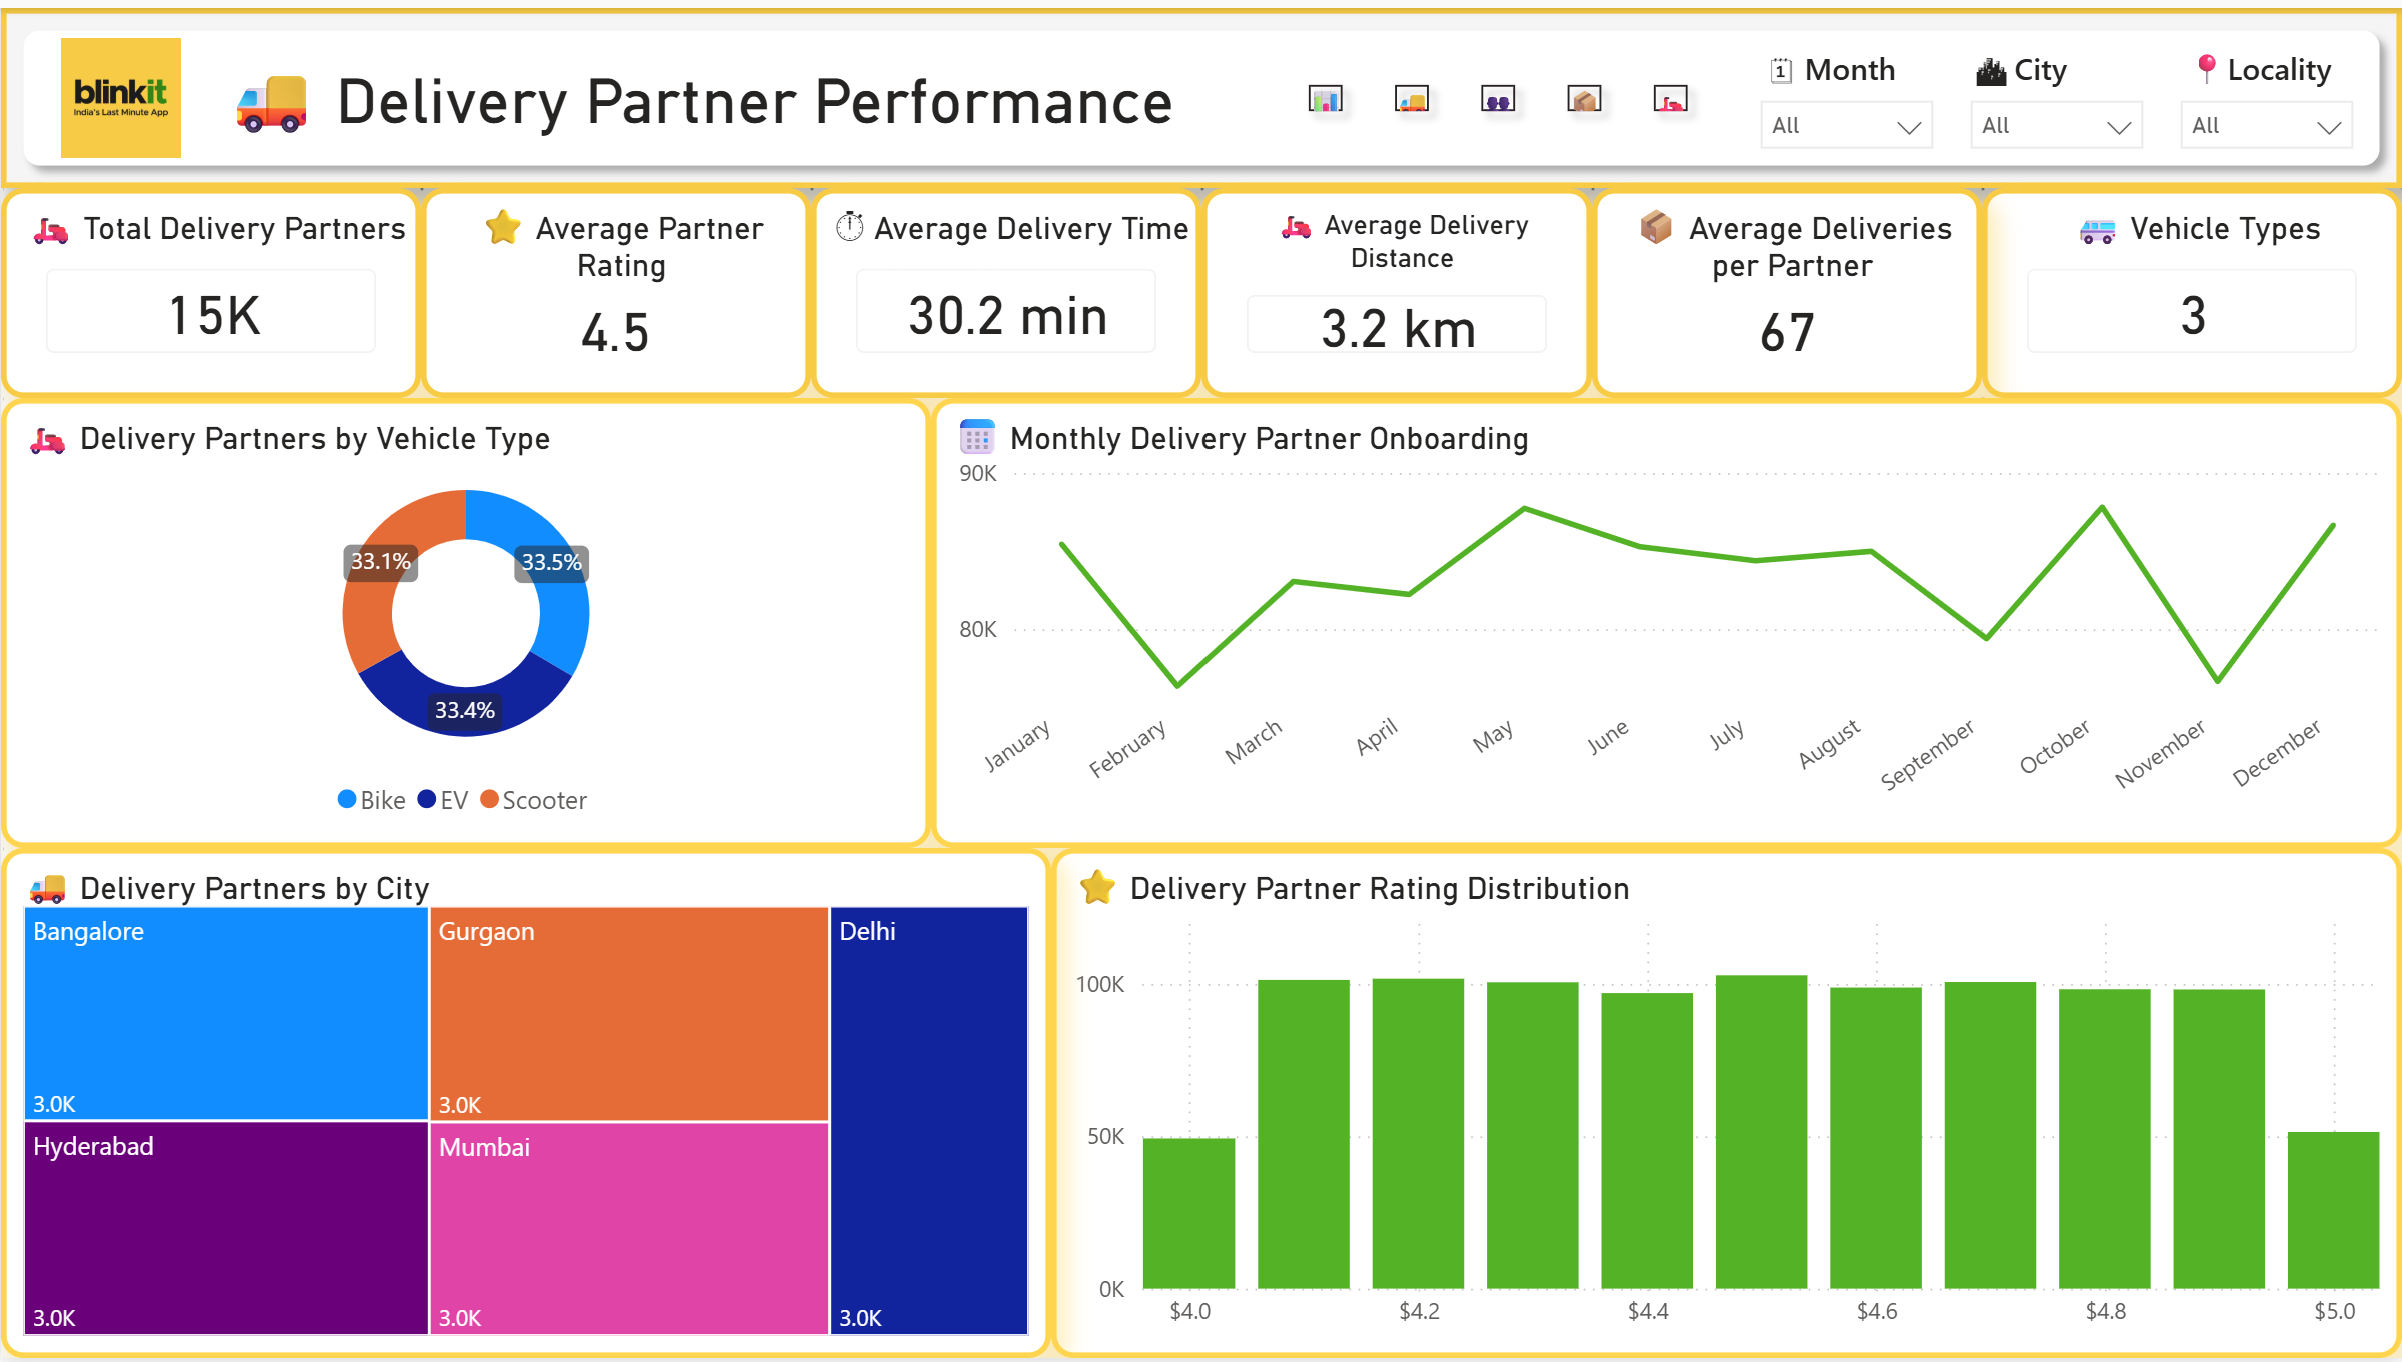

The page's visual inventory and layout, read from the dashboard file:
{"tool":"powerbi","page":{"name":"🛵 Partners","canvas":[1280,720],"ordinal":4},"visuals":[{"type":"shape","box":[0,0,1280,96],"z":0},{"type":"textbox","box":[16,16,704,64],"z":1000},{"type":"slicer","fields":{"Values":["Customers.city"]},"box":[1040,16,112,64],"z":2000},{"type":"slicer","fields":{"Values":["Store.locality"]},"box":[1152,16,112,64],"z":3000},{"type":"slicer","fields":{"Values":["Calender.date.Variation.Date Hierarchy.Month"]},"box":[928,16,112,64],"z":4000},{"type":"image","box":[0,16,128,64],"z":5000},{"type":"cardVisual","title":"🛵 Total Delivery Partners","fields":{"Data":["Key_Metrices.Total Delivery Partners"]},"box":[0,96,224,112],"z":6000},{"type":"card","title":"⭐ Average Partner Rating","fields":{"Values":["Key_Metrices.Average Rider Rating"]},"box":[224,96,208,112],"z":7000},{"type":"cardVisual","title":"⏱ Average Delivery Time","fields":{"Data":["Key_Metrices.Average Delivery Time"]},"box":[432,96,208,112],"z":8000},{"type":"cardVisual","title":"🚐 Vehicle Types","fields":{"Data":["Key_Metrices.Vehicle Types"]},"box":[1056,96,224,112],"z":9000},{"type":"cardVisual","title":"🛵 Average Delivery Distance","fields":{"Data":["Key_Metrices.Average Delivery Distance"]},"box":[640,96,208,112],"z":10000},{"type":"card","title":"📦 Average Deliveries per Partner","fields":{"Values":["Key_Metrices.Average Deliveries per Partner"]},"box":[848,96,208,112],"z":11000},{"type":"donutChart","title":"🛵 Delivery Partners by Vehicle Type","fields":{"Category":["Delivery_Partners.vehicle_type"],"Y":["CountNonNull(Orders.delivery_partner_id)"]},"box":[0,208,496,240],"z":12000},{"type":"lineChart","title":"📅 Monthly Delivery Partner Onboarding","fields":{"Category":["Delivery_Partners.joining_date.Variation.Date Hierarchy.Month"],"Y":["CountNonNull(Orders.delivery_partner_id)"]},"box":[496,208,784,240],"z":13000},{"type":"clusteredColumnChart","title":"⭐ Delivery Partner Rating Distribution","fields":{"Category":["Delivery_Partners.average_rating"],"Y":["CountNonNull(Orders.delivery_partner_id)"]},"box":[560,448,720,272],"z":14000},{"type":"treemap","title":"🚚 Delivery Partners by City","fields":{"Group":["Delivery_Partners.city"],"Values":["CountNonNull(Delivery_Partners.delivery_partner_id)"]},"box":[0,448,560,272],"z":15000},{"type":"pageNavigator","box":[688,32,224,32],"z":16000}]}

Visuals, with their boxes in screenshot pixels (x1, y1, x2, y2), scaled from the page's 1280x720 canvas onto the 2402x1362 screenshot:
shape: Rect(0, 0, 2401, 182)
textbox: Rect(30, 30, 1351, 151)
slicer - Customers.city: Rect(1952, 30, 2162, 151)
slicer - Store.locality: Rect(2162, 30, 2372, 151)
slicer - Calender.date.Variation.Date Hierarchy.Month: Rect(1741, 30, 1952, 151)
image: Rect(0, 30, 240, 151)
"🛵 Total Delivery Partners" cardVisual: Rect(0, 182, 420, 393)
"⭐ Average Partner Rating" card: Rect(420, 182, 811, 393)
"⏱ Average Delivery Time" cardVisual: Rect(811, 182, 1201, 393)
"🚐 Vehicle Types" cardVisual: Rect(1982, 182, 2401, 393)
"🛵 Average Delivery Distance" cardVisual: Rect(1201, 182, 1591, 393)
"📦 Average Deliveries per Partner" card: Rect(1591, 182, 1982, 393)
"🛵 Delivery Partners by Vehicle Type" donutChart: Rect(0, 393, 931, 847)
"📅 Monthly Delivery Partner Onboarding" lineChart: Rect(931, 393, 2401, 847)
"⭐ Delivery Partner Rating Distribution" clusteredColumnChart: Rect(1051, 847, 2401, 1361)
"🚚 Delivery Partners by City" treemap: Rect(0, 847, 1051, 1361)
pageNavigator: Rect(1291, 61, 1711, 121)
